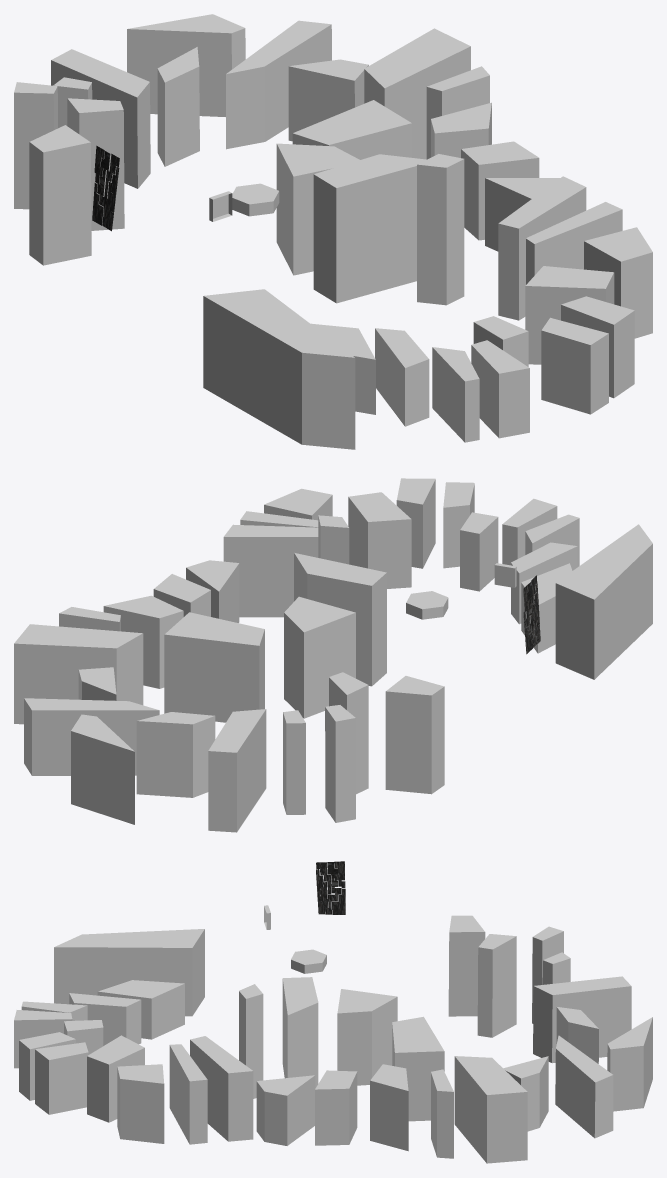
File: Cave1_objects.FBX
3 renders of one model, top to bottom at view 1: azimuth 30°, elevation 25°; view 2: azimuth 150°, elevation 25°; view 3: azimuth 270°, elevation 25°, orthographic. The views are drawn at different scales.
Visible parts, largest first — view 1: cave1_platform_01, cave1_platform_18, cave1_platform_30, cave1_platform_23, cave1_platform_24, cave1_platform_19, cave1_platform_21, cave1_platform_07, cave1_platform_17, cave1_platform_12, cave1_platform_26, cave1_platform_16 (+19 smaller); view 2: cave1_platform_01, cave1_platform_16, cave1_platform_21, cave1_platform_17, cave1_platform_30, cave1_platform_18, cave1_platform_12, cave1_platform_25, cave1_platform_26, cave1_platform_23, cave1_platform_24, cave1_platform_09 (+20 smaller); view 3: cave1_platform_01, cave1_platform_21, cave1_platform_26, cave1_platform_17, cave1_platform_12, cave1_platform_23, cave1_platform_29, cave1_platform_13, cave1_platform_10, cave1_platform_18, cave1_platform_16, cave1_platform_08 (+19 smaller).
Part boxes in pixels (x1=…): cave1_platform_01: x1=203, y1=289, x2=355, y2=449; cave1_platform_18: x1=313, y1=154, x2=426, y2=303; cave1_platform_30: x1=29, y1=125, x2=91, y2=265; cave1_platform_23: x1=226, y1=20, x2=331, y2=149; cave1_platform_24: x1=127, y1=14, x2=245, y2=116; cave1_platform_19: x1=417, y1=154, x2=464, y2=305; cave1_platform_21: x1=364, y1=28, x2=470, y2=159; cave1_platform_07: x1=541, y1=317, x2=608, y2=414; cave1_platform_17: x1=276, y1=143, x2=359, y2=275; cave1_platform_12: x1=498, y1=176, x2=586, y2=320; cave1_platform_26: x1=51, y1=49, x2=150, y2=188; cave1_platform_16: x1=292, y1=100, x2=411, y2=159; cave1_platform_01: x1=555, y1=524, x2=652, y2=679; cave1_platform_16: x1=164, y1=612, x2=264, y2=722; cave1_platform_21: x1=14, y1=624, x2=143, y2=724; cave1_platform_17: x1=284, y1=596, x2=355, y2=718; cave1_platform_30: x1=385, y1=676, x2=444, y2=794; cave1_platform_18: x1=294, y1=553, x2=386, y2=686; cave1_platform_12: x1=223, y1=524, x2=318, y2=617; cave1_platform_25: x1=136, y1=712, x2=215, y2=797; cave1_platform_26: x1=208, y1=709, x2=266, y2=832; cave1_platform_23: x1=24, y1=698, x2=159, y2=775; cave1_platform_24: x1=71, y1=714, x2=134, y2=824; cave1_platform_09: x1=348, y1=492, x2=411, y2=588; cave1_platform_01: x1=54, y1=929, x2=204, y2=1016; cave1_platform_21: x1=454, y1=1056, x2=527, y2=1163; cave1_platform_26: x1=533, y1=976, x2=631, y2=1063; cave1_platform_17: x1=337, y1=989, x2=397, y2=1085; cave1_platform_12: x1=190, y1=1036, x2=253, y2=1141; cave1_platform_23: x1=555, y1=1035, x2=613, y2=1138; cave1_platform_29: x1=477, y1=934, x2=516, y2=1037; cave1_platform_13: x1=256, y1=1075, x2=315, y2=1145; cave1_platform_10: x1=117, y1=1064, x2=164, y2=1143; cave1_platform_18: x1=282, y1=977, x2=318, y2=1088; cave1_platform_16: x1=392, y1=1016, x2=444, y2=1121; cave1_platform_08: x1=35, y1=1042, x2=88, y2=1114.
Size of the model in its own units: 4242 by 1545 by 6665.
